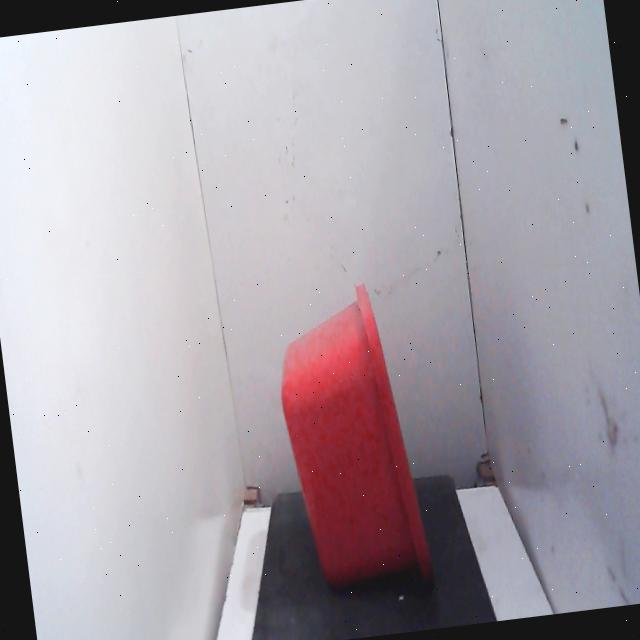plastic: (262, 255, 453, 616)
